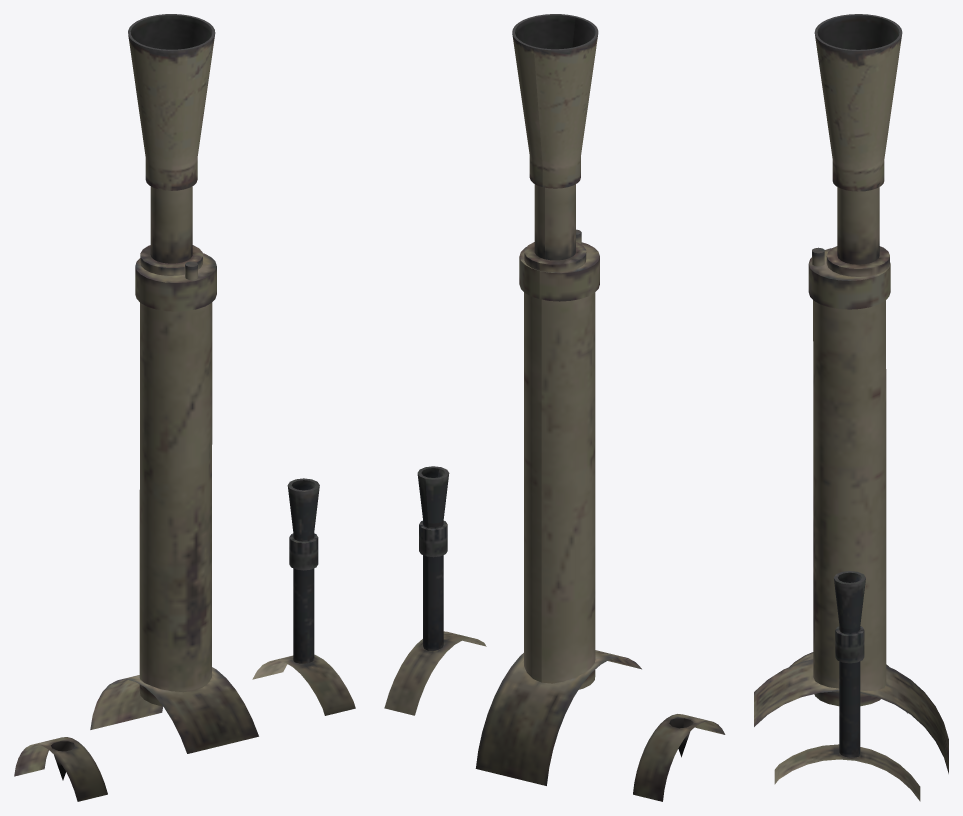
File: Gun_05.glb
3 views of the same model, side by side, from view 1: azimuth 30°, elevation 25°; view 2: azimuth 150°, elevation 25°; view 3: azimuth 270°, elevation 25° (orthographic).
Parts seen in each view (by area): view 1: set_0_group_0; view 2: set_0_group_0; view 3: set_0_group_0.
Boxes of the visible parts, <box> form: set_0_group_0: <box>14,14,355,801</box>; set_0_group_0: <box>384,14,725,801</box>; set_0_group_0: <box>754,14,948,801</box>.
Size of the model in its own units: 0.5719 by 1.45 by 0.3488.
Materials: 1 (1 with a texture image).
